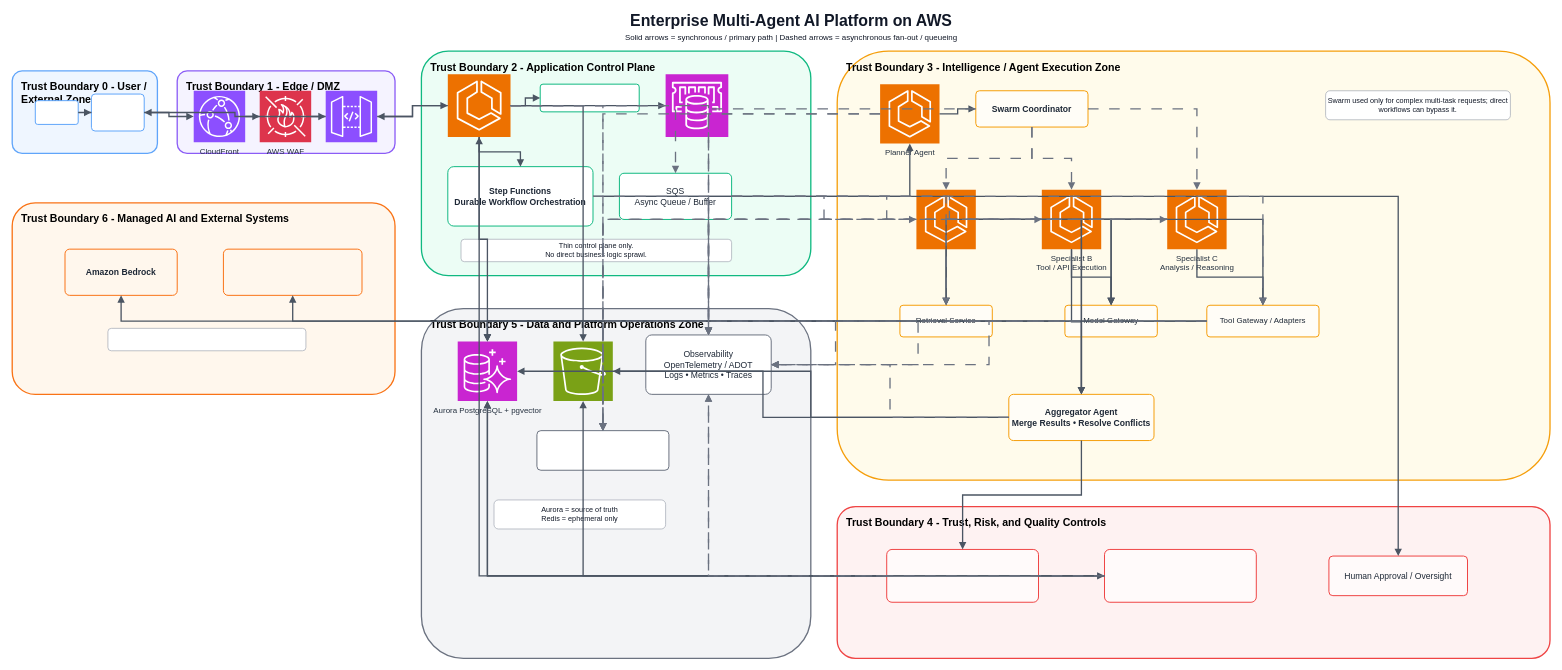
Some shapes in this 1562 by 670 pixel diagram are drawn without their labels. Each missing label, with the centre of its shape:
"Access only through governed gateways" goes at point 206,339.
"API Gateway" goes at point 351,116.
"Chat Orchestrator API Session • Auth • Routing • Policy" goes at point 479,105.
"Chat UI / Web App" goes at point 117,112.
"Enterprise Systems / External APIs" goes at point 292,272.
"Guardrails / Policy Prompt • Tool • Response Checks" goes at point 1180,575.
"Redis Cache Ephemeral Session • Working Memory • Coordination" goes at point 696,105.
"S3 Artifact Store" goes at point 583,371.
"Secrets / KMS / IAM" goes at point 602,450.
"Specialist A Retrieval / Research" goes at point 946,219.
"User" goes at point 56,112.
"Validation & Evaluation Grounding • Completeness • Scoring" goes at point 962,575.
"Workflow / Agent Registry" goes at point 589,97.
